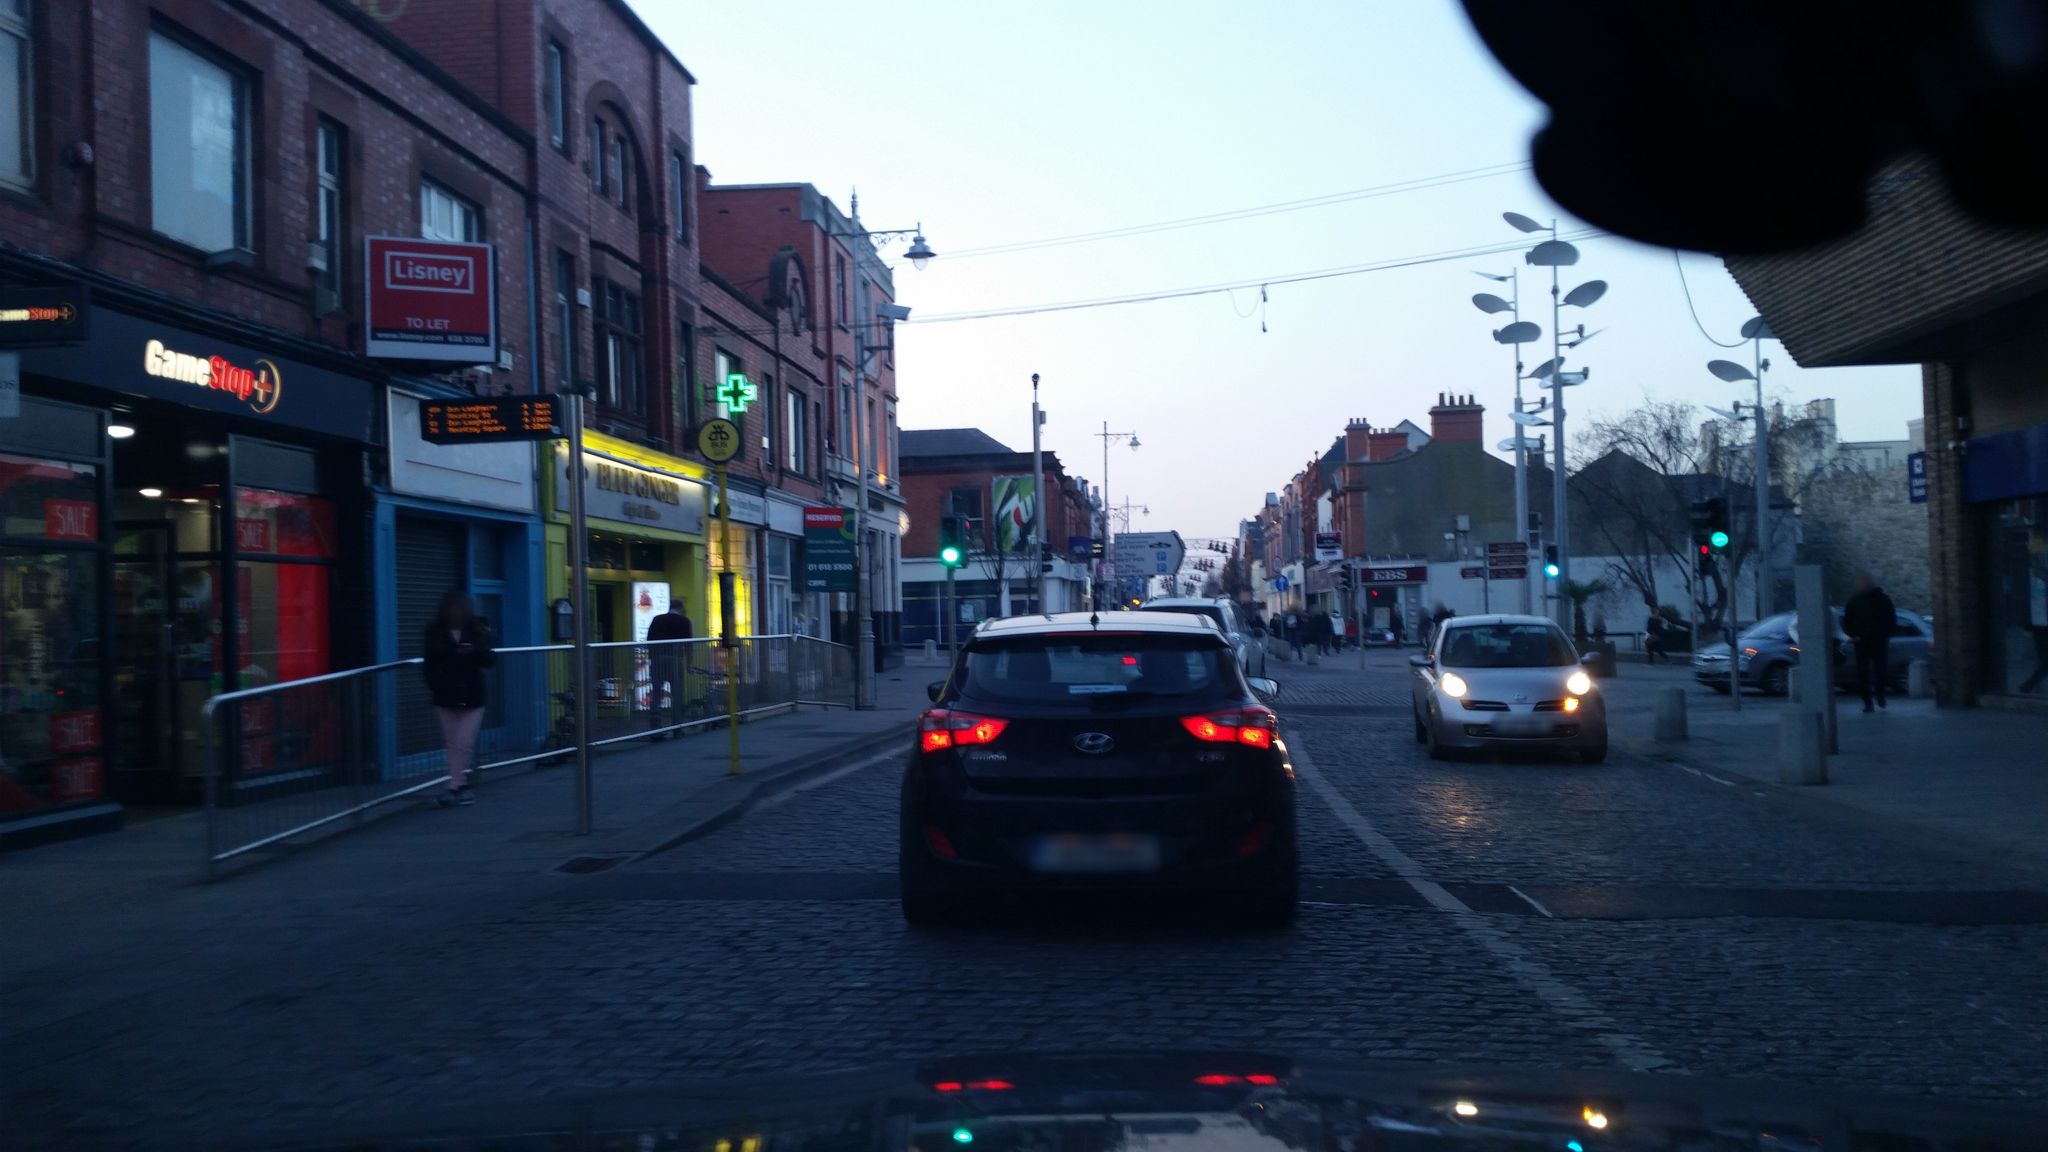property sign: (345, 222, 511, 370), (793, 482, 871, 610)
